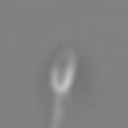normal: (47, 93, 70, 128)
